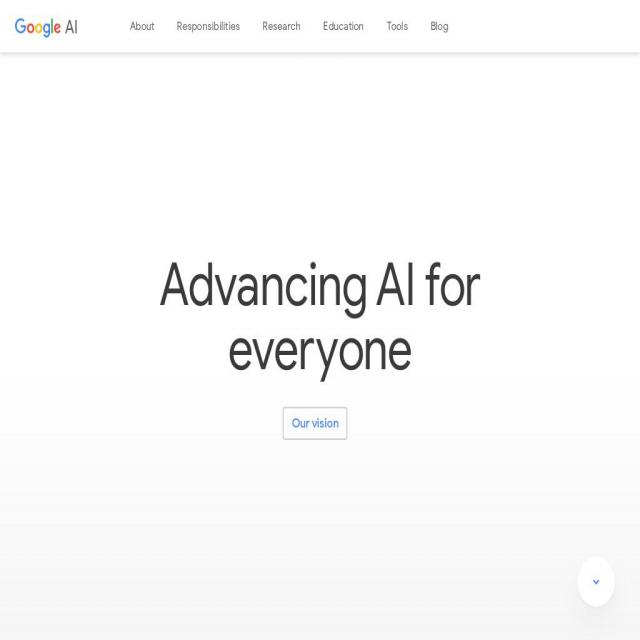navigation-links: (120, 5, 458, 55)
